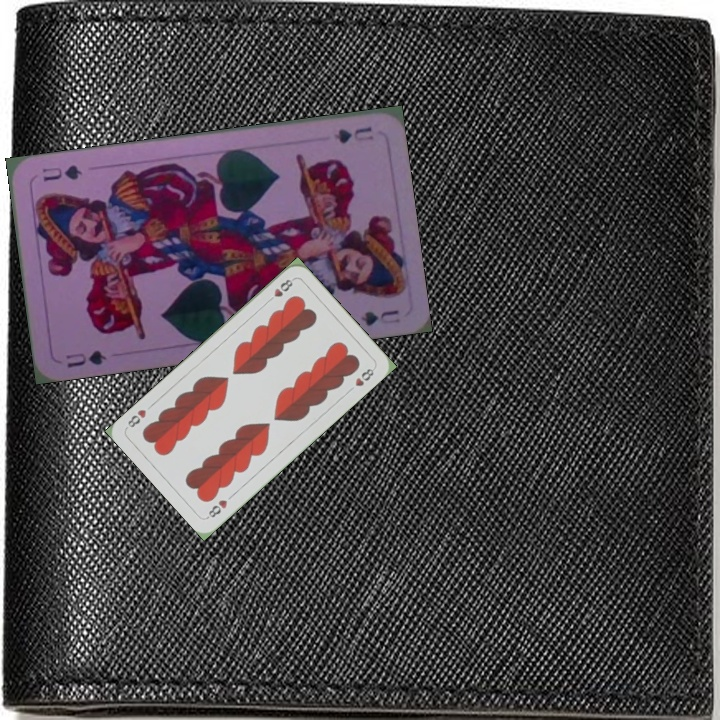GU: (62, 346, 110, 371), (330, 122, 376, 146)
H8: (263, 275, 296, 306), (203, 496, 230, 521)
